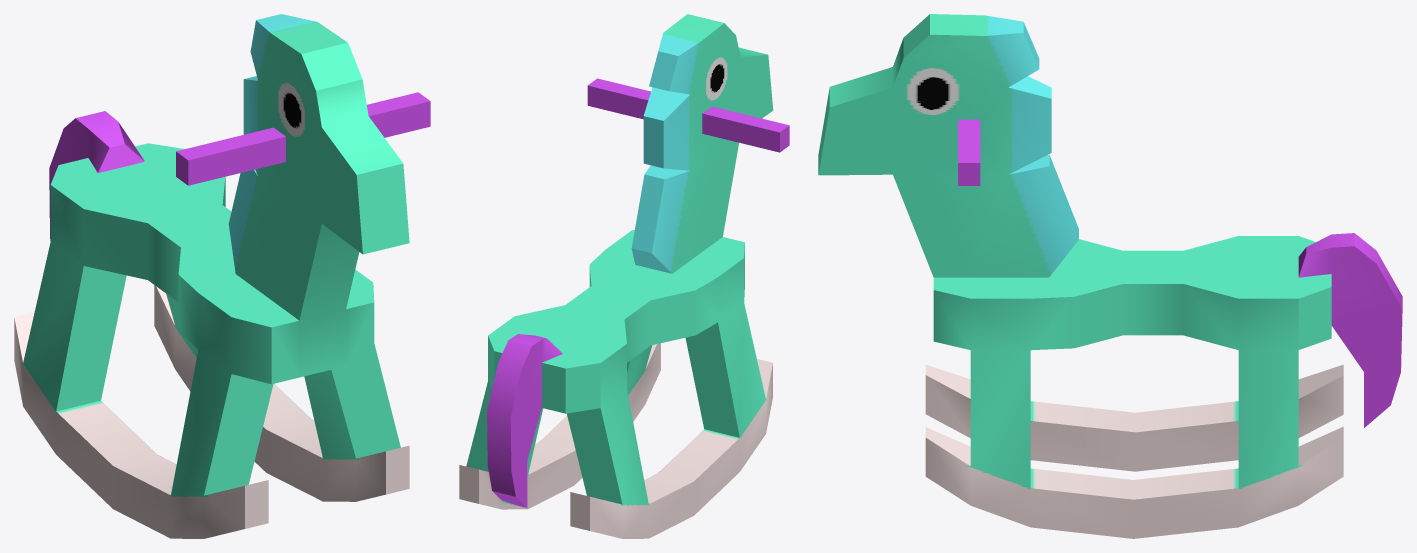
Rendered from rockingHorse.fbx.
3 renders of one model, left to right at view 1: azimuth 30°, elevation 25°; view 2: azimuth 150°, elevation 25°; view 3: azimuth 270°, elevation 25°, orthographic. The views are drawn at different scales.
Visible parts, largest first — view 1: rockingHorse; view 2: rockingHorse; view 3: rockingHorse.
Boxes of the visible parts, x1,y1,x2,y2 form: rockingHorse: (14, 14, 430, 538); rockingHorse: (459, 14, 789, 538); rockingHorse: (818, 14, 1402, 538).
Bounding box in the file's own units: 1.12 × 2.3 × 2.59.
Materials: 1 (1 with a texture image).
